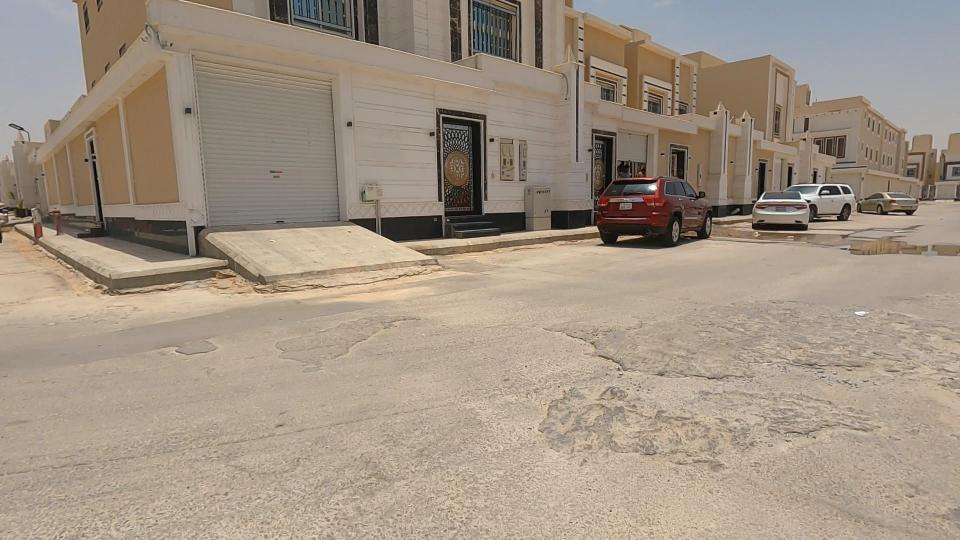POTHOLES: (504, 263, 783, 514), (679, 260, 898, 408)
